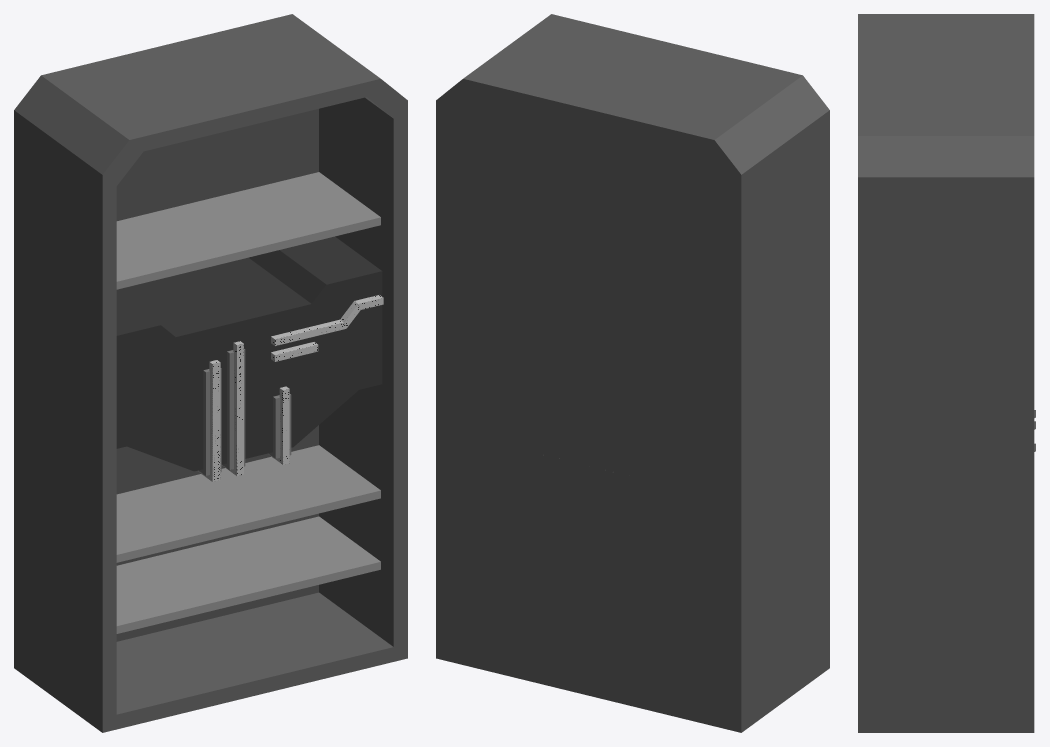
File: shelf_B.FBX
3 views of the same model, side by side, from view 1: azimuth 30°, elevation 25°; view 2: azimuth 150°, elevation 25°; view 3: azimuth 270°, elevation 25° (orthographic).
Parts seen in each view (by area): view 1: shelf_B, shelf_B_glow; view 2: shelf_B; view 3: shelf_B.
Boxes of the visible parts, left/top/right/bottom form: shelf_B: left=14, top=14, right=407, bottom=732; shelf_B_glow: left=197, top=295, right=383, bottom=481; shelf_B: left=436, top=14, right=829, bottom=732; shelf_B: left=858, top=14, right=1035, bottom=732.
Size of the model in its own units: 48.47 by 88.91 by 24.53.
